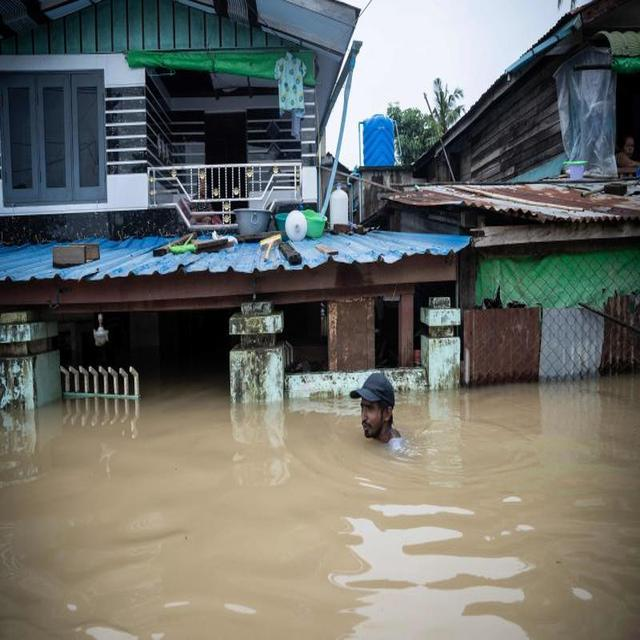Person-RiskLevel3: (334, 360, 441, 470)
